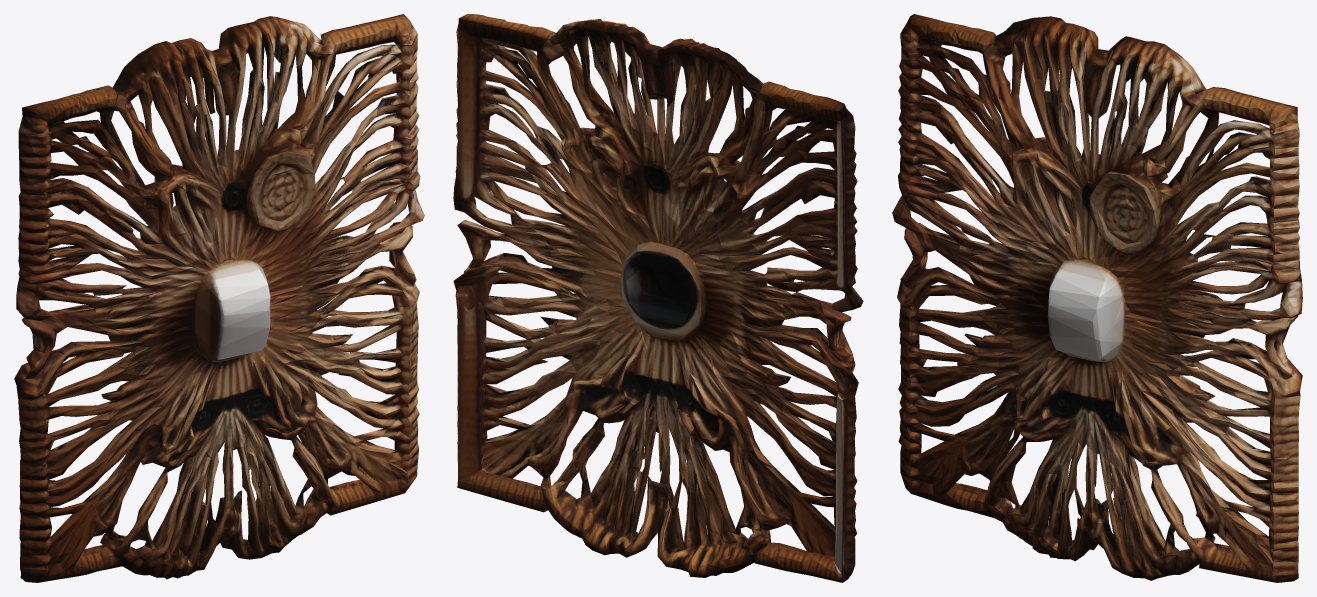
Rendered from woven-rattan-light-switch-cover-art-deco.jpeg.glb.
The picture shows the model from 3 angles, left to right: view 1: azimuth 30°, elevation 25°; view 2: azimuth 150°, elevation 25°; view 3: azimuth 330°, elevation 25°; orthographic projection.
Parts seen in each view (by area): view 1: world; view 2: world; view 3: world.
Part boxes in pixels (<box>): world: <box>14,14,424,582</box>; world: <box>453,14,863,582</box>; world: <box>892,14,1302,582</box>.
Size of the model in its own units: 0.7991 by 0.9992 by 0.1327.
1 material, 1 textured.
